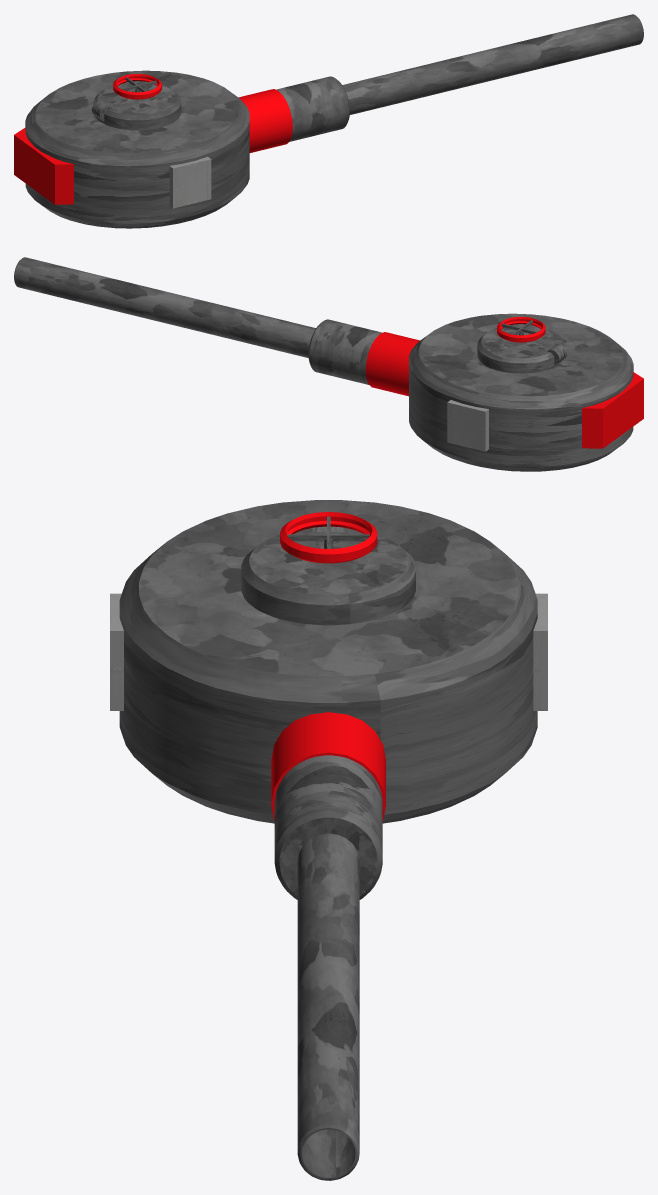
The model's file is tank_top_blender_enemy.glb.
3 views of the same model, one above another, from view 1: azimuth 30°, elevation 25°; view 2: azimuth 150°, elevation 25°; view 3: azimuth 270°, elevation 25° (orthographic). The views are drawn at different scales.
Parts seen in each view (by area): view 1: pCylinder36; view 2: pCylinder36; view 3: pCylinder36.
Boxes of the visible parts, left/top/right/bottom form: pCylinder36: left=14, top=14, right=643, bottom=228; pCylinder36: left=14, top=257, right=643, bottom=471; pCylinder36: left=110, top=500, right=547, bottom=1180.
Bounding box in the file's own units: 7.46 × 1.23 × 2.35.
Materials: 4 (3 with a texture image).
